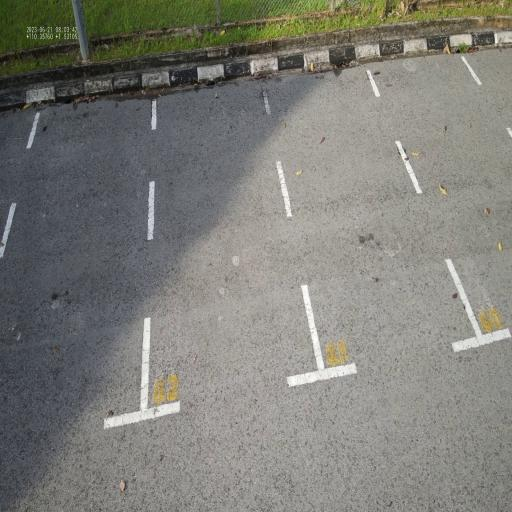Empty: (256, 65, 485, 394), (138, 61, 329, 436)
